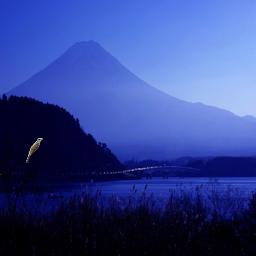Cuckoo: (25, 138, 43, 163)
